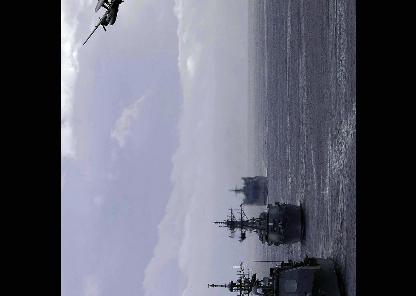C5: (81, 0, 131, 46)
